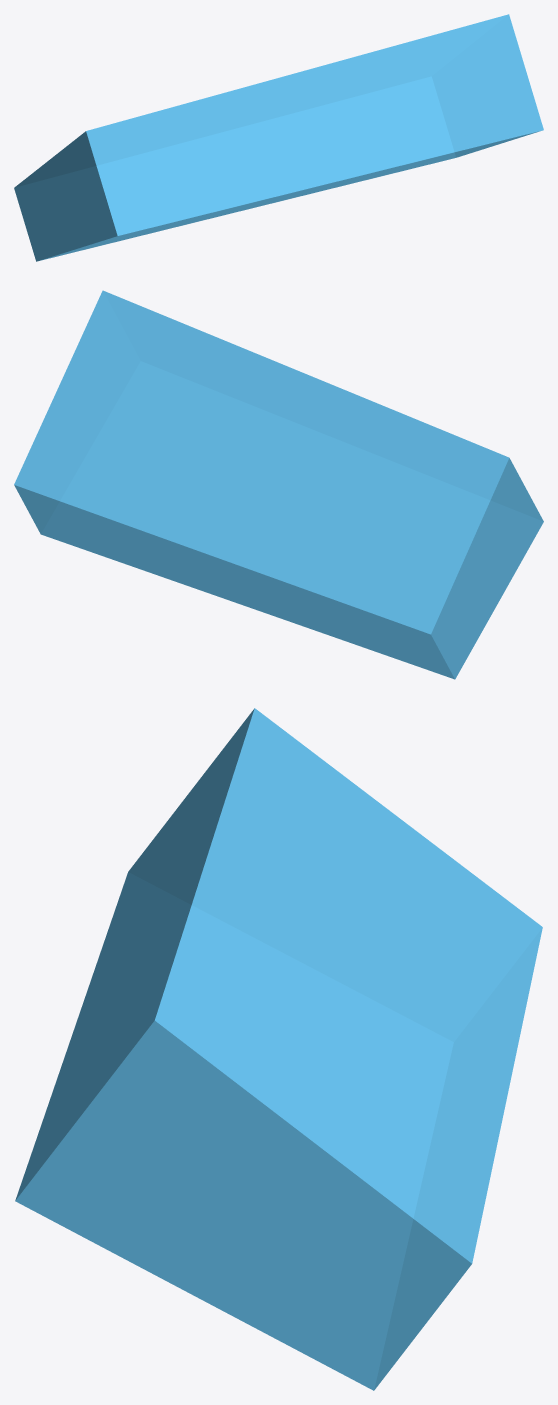
Rendered from Event_420107950_HErechit_72.fbx.
3 renders of one model, top to bottom at view 1: azimuth 30°, elevation 25°; view 2: azimuth 150°, elevation 25°; view 3: azimuth 270°, elevation 25°, orthographic. The views are drawn at different scales.
Visible parts, largest first — view 1: Model; view 2: Model; view 3: Model.
Boxes of the visible parts, x1=… form: Model: x1=14, y1=14, x2=543, y2=261; Model: x1=14, y1=290, x2=543, y2=679; Model: x1=15, y1=708, x2=542, y2=1390.
Size of the model in its own units: 1.15 by 0.5626 by 0.6558.
